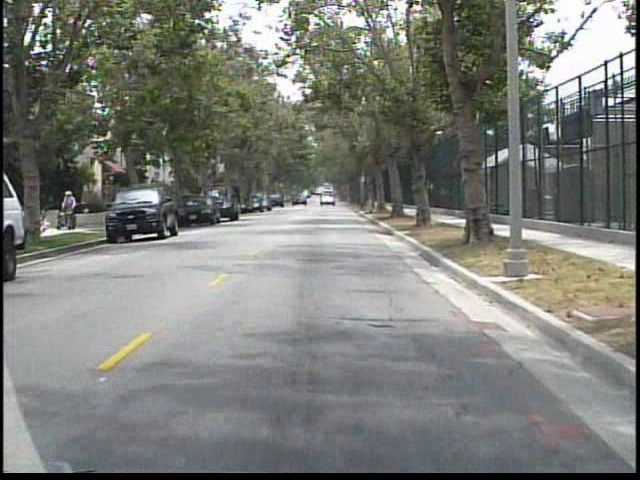person: (60, 188, 83, 233)
